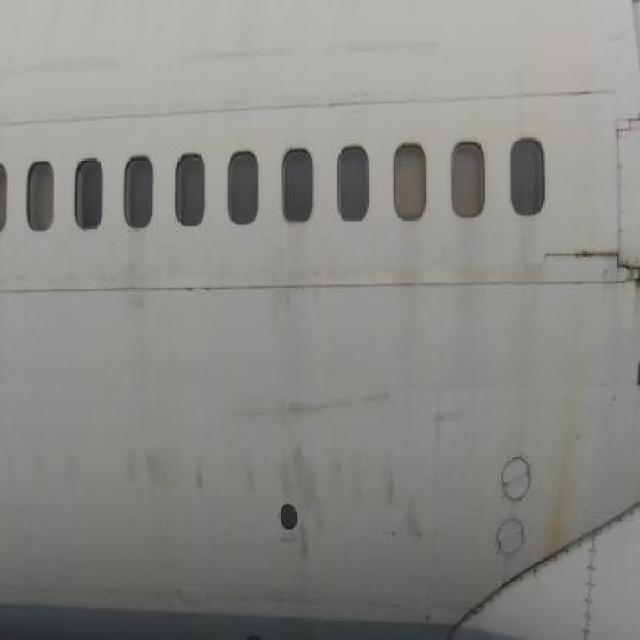Rust: (538, 336, 600, 562)
Scartch: (238, 440, 427, 594), (238, 376, 394, 435), (122, 434, 208, 521), (1, 51, 125, 97), (181, 38, 299, 84), (342, 33, 451, 73), (31, 433, 84, 501), (429, 399, 463, 458)
